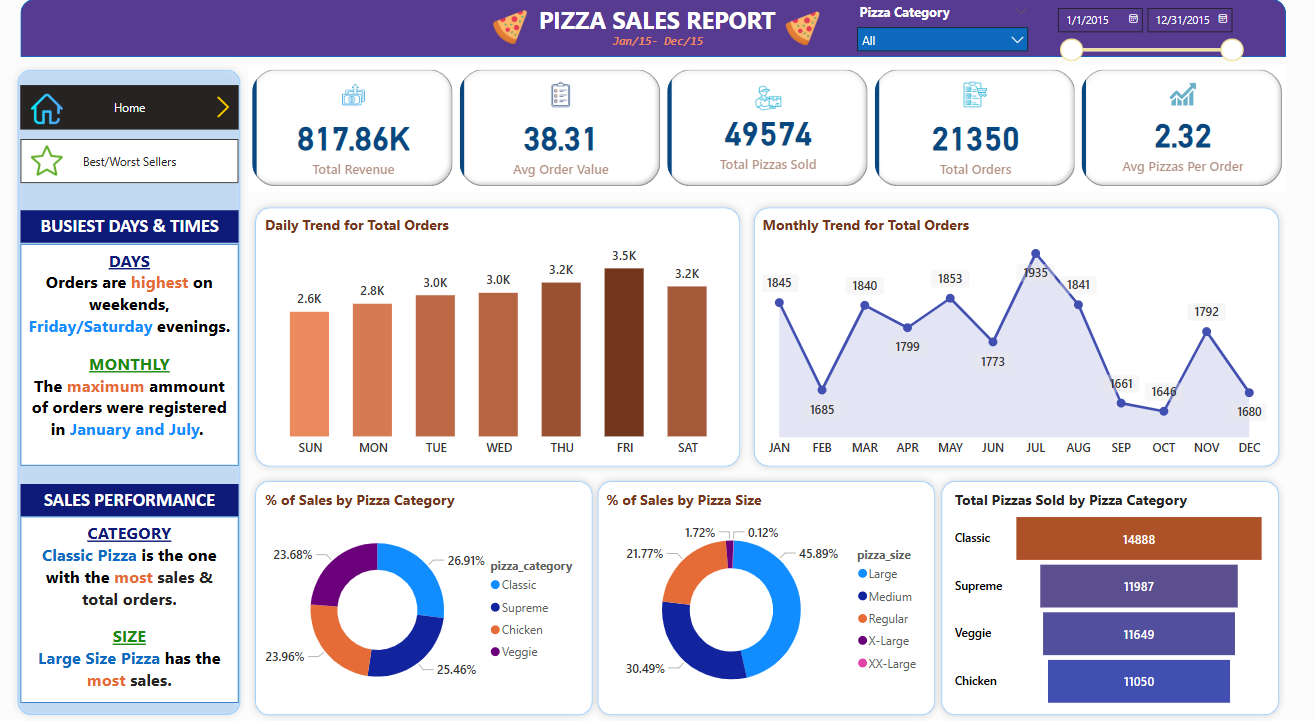

This screenshot's page, from the dashboard's own definition file:
{"tool":"powerbi","page":{"name":"Home","canvas":[1500,820],"ordinal":0},"visuals":[{"type":"cardVisual","fields":{"Data":["pizza_sales pizza.Total Revenue","pizza_sales pizza.Avg Order Value","pizza_sales pizza.Total Pizzas Sold","pizza_sales pizza.Total Orders","pizza_sales pizza.Avg Pizzas Per Order"]},"box":[282.9,75.7,1177.1,142.9],"z":0},{"type":"shape","box":[14.3,72.9,268.6,747.1],"z":1000},{"type":"shape","box":[25.7,0,1434.3,65.7],"z":2000},{"type":"textbox","box":[607.1,0,290,50],"z":3000},{"type":"textbox","box":[691.4,32.9,122.9,32.9],"z":4000},{"type":"textbox","box":[25.7,240,247.1,37.1],"z":5000},{"type":"image","box":[554.3,7.1,52.9,50],"z":6000},{"type":"image","box":[878.6,8.6,67.1,50],"z":7000},{"type":"shape","box":[282.9,228.6,565.7,310],"z":8000},{"type":"columnChart","title":"Daily Trend for Total Orders","fields":{"Category":["pizza_sales pizza.Order Day"],"Y":["pizza_sales pizza.Total Orders"]},"box":[297.1,244.3,541.4,284.3],"z":9000},{"type":"shape","box":[848.6,228.6,611.4,310],"z":10000},{"type":"areaChart","title":"Monthly Trend for Total Orders","fields":{"Category":["pizza_sales pizza.Order Month"],"Y":["pizza_sales pizza.Total Orders"]},"box":[861.4,244.3,581.4,284.3],"z":11000},{"type":"shape","box":[282.9,538.6,398.6,281.4],"z":12000},{"type":"shape","box":[671.4,538.6,398.6,281.4],"z":13000},{"type":"shape","box":[1061.4,538.6,398.6,281.4],"z":14000},{"type":"donutChart","title":"% of Sales by Pizza Category","fields":{"Category":["pizza_sales pizza.pizza_category"],"Y":["pizza_sales pizza.Total Revenue"]},"box":[297.1,555.7,374.3,252.9],"z":15000},{"type":"donutChart","title":"% of Sales by Pizza Size","fields":{"Y":["pizza_sales pizza.Total Revenue"],"Category":["pizza_sales pizza.pizza_size"]},"box":[684.3,555.7,374.3,252.9],"z":16000},{"type":"funnel","title":"Total Pizzas Sold by Pizza Category","fields":{"Category":["pizza_sales pizza.pizza_category"],"Y":["pizza_sales pizza.Total Pizzas Sold"]},"box":[1080,555.7,362.9,252.9],"z":17000},{"type":"textbox","box":[25.7,277.1,247.1,251.4],"z":18000},{"type":"textbox","box":[25.7,550,247.1,37.1],"z":19000},{"type":"textbox","box":[25.7,587.1,247.1,211.4],"z":20000},{"type":"slicer","fields":{"Values":["pizza_sales pizza.pizza_category"]},"box":[962.9,0,214.3,65.7],"z":21000},{"type":"slicer","fields":{"Values":["pizza_sales pizza.order_date"]},"box":[1188.6,0,231.4,75.7],"z":22000},{"type":"pageNavigator","box":[25.7,158.6,247.1,50],"z":22001},{"type":"pageNavigator","box":[25.7,97.1,247.1,50],"z":22002},{"type":"image","box":[238.6,101.4,34.3,41.4],"z":22003},{"type":"image","box":[32.9,97.1,45.7,54.3],"z":22004},{"type":"image","box":[32.9,158.6,45.7,48.6],"z":22005}]}

Visuals, with their boxes in screenshot pixels (x1, y1, x2, y2), scaled from the page's 1500x820 canvas onto the 1315x721 screenshot:
cardVisual - pizza_sales pizza.Total Revenue x pizza_sales pizza.Avg Order Value: box(248, 67, 1280, 192)
shape: box(13, 64, 248, 720)
shape: box(23, 0, 1280, 58)
textbox: box(532, 0, 786, 44)
textbox: box(606, 29, 714, 58)
textbox: box(23, 211, 239, 244)
image: box(486, 6, 532, 50)
image: box(770, 8, 829, 52)
shape: box(248, 201, 744, 474)
"Daily Trend for Total Orders" columnChart: box(260, 215, 735, 465)
shape: box(744, 201, 1280, 474)
"Monthly Trend for Total Orders" areaChart: box(755, 215, 1265, 465)
shape: box(248, 474, 597, 720)
shape: box(589, 474, 938, 720)
shape: box(930, 474, 1280, 720)
"% of Sales by Pizza Category" donutChart: box(260, 489, 589, 711)
"% of Sales by Pizza Size" donutChart: box(600, 489, 928, 711)
"Total Pizzas Sold by Pizza Category" funnel: box(947, 489, 1265, 711)
textbox: box(23, 244, 239, 465)
textbox: box(23, 484, 239, 516)
textbox: box(23, 516, 239, 702)
slicer - pizza_sales pizza.pizza_category: box(844, 0, 1032, 58)
slicer - pizza_sales pizza.order_date: box(1042, 0, 1245, 67)
pageNavigator: box(23, 139, 239, 183)
pageNavigator: box(23, 85, 239, 129)
image: box(209, 89, 239, 126)
image: box(29, 85, 69, 133)
image: box(29, 139, 69, 182)
